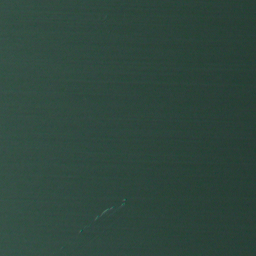sct: (71, 197, 131, 236)
